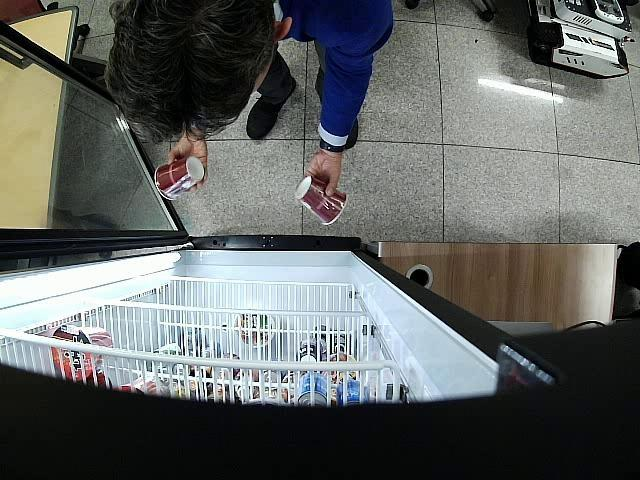06_nuguri_S: (293, 176, 347, 224), (154, 156, 204, 200)
